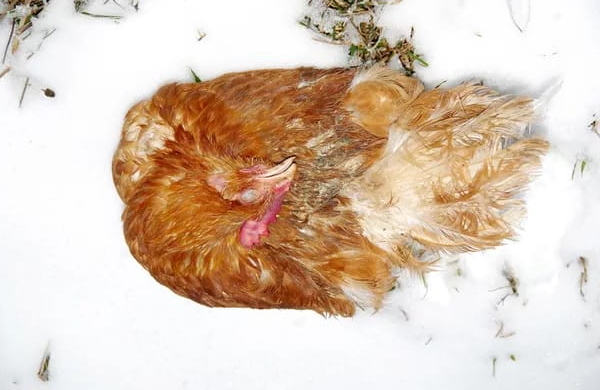Unhealthy: (105, 63, 578, 314)
